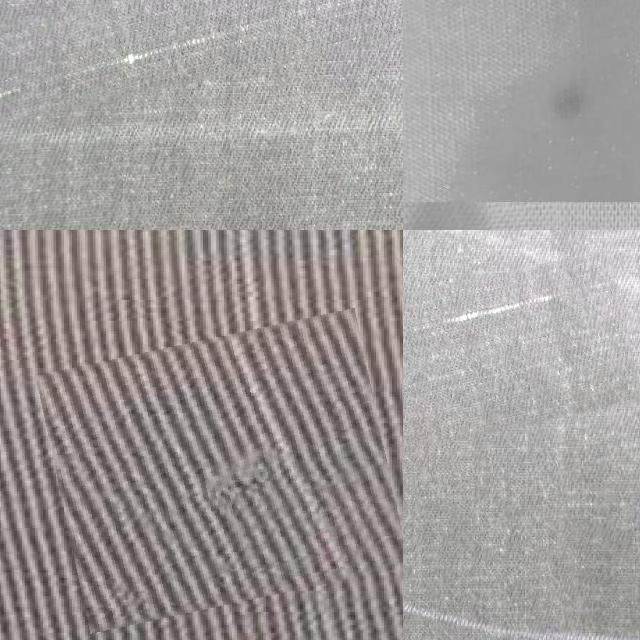Thread_other: (48, 324, 398, 619), (403, 277, 638, 488)
